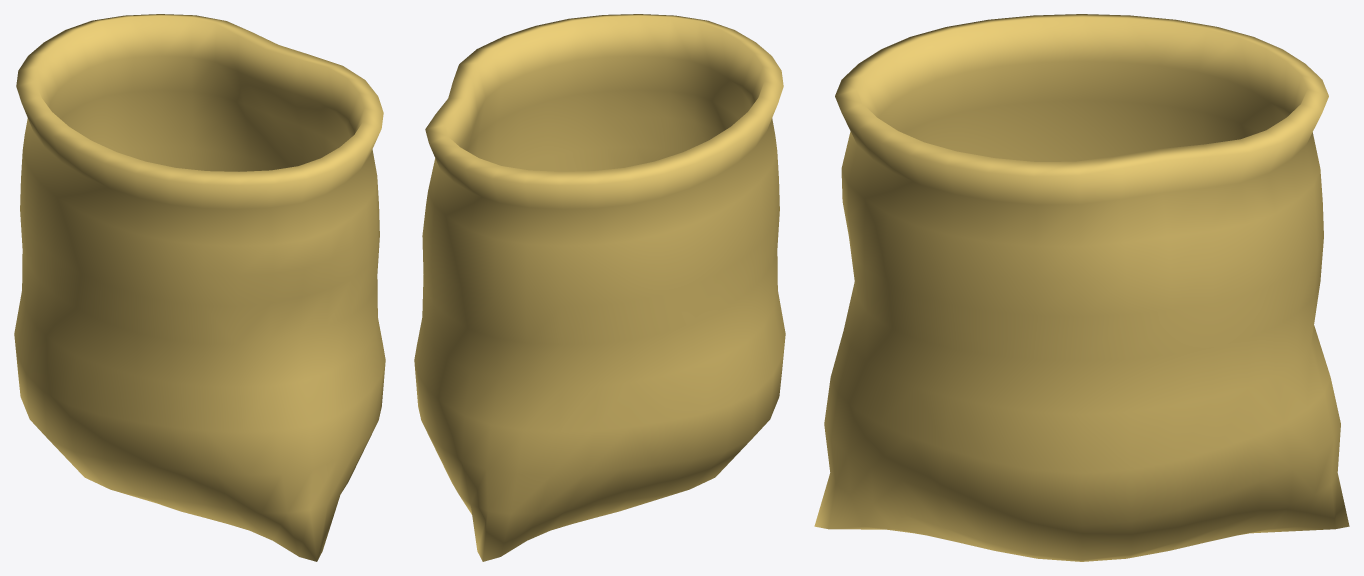
File: bagstandig_012.fbx
3 views of the same model, side by side, from view 1: azimuth 30°, elevation 25°; view 2: azimuth 150°, elevation 25°; view 3: azimuth 270°, elevation 25° (orthographic). The views are drawn at different scales.
Parts seen in each view (by area): view 1: Cube.045; view 2: Cube.045; view 3: Cube.045.
Boxes of the visible parts, x1,y1,x2,y2 form: Cube.045: (14, 14, 385, 561); Cube.045: (414, 14, 785, 561); Cube.045: (814, 14, 1349, 561).
Size of the model in its own units: 90.27 by 107 by 117.
